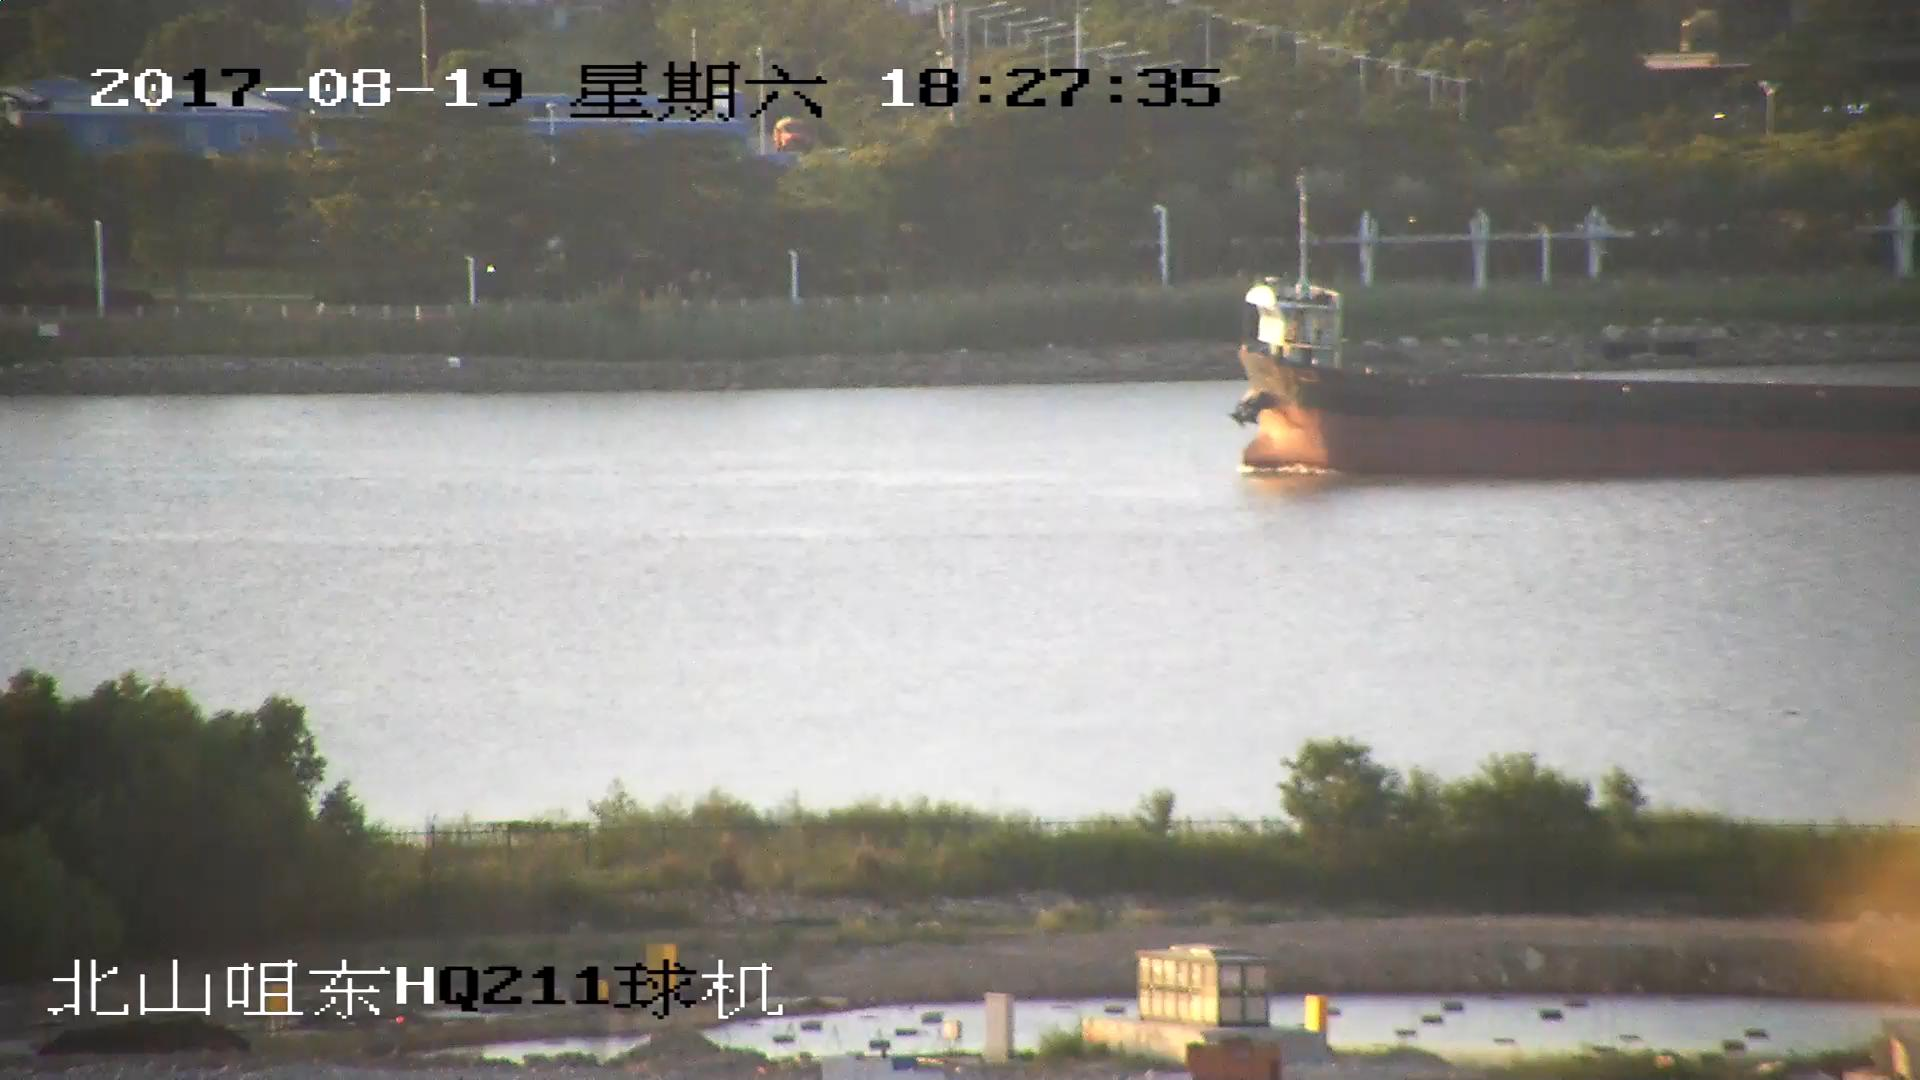general cargo ship: (1245, 286, 1920, 483)
